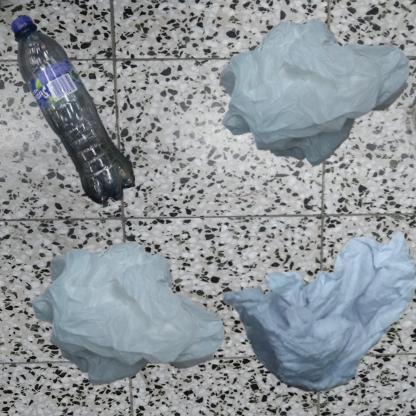bolsa: (10, 213, 281, 416), (213, 10, 416, 177)
botella: (10, 10, 138, 213)
papel: (213, 213, 416, 405)
